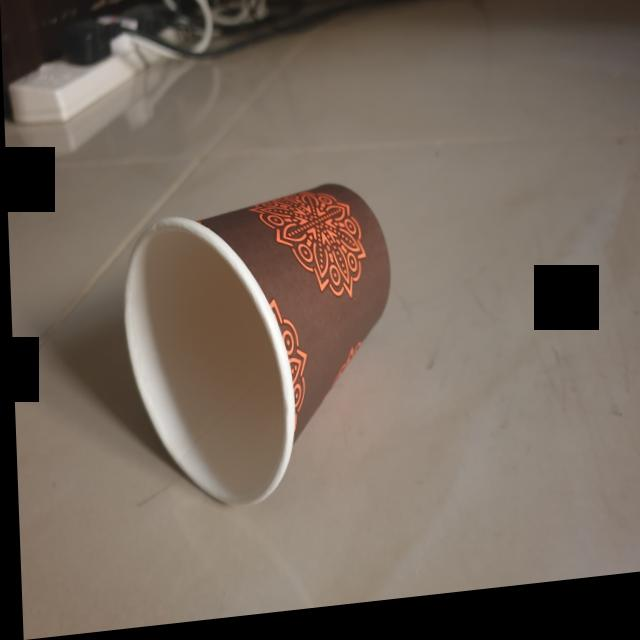cups: (113, 184, 406, 529)
